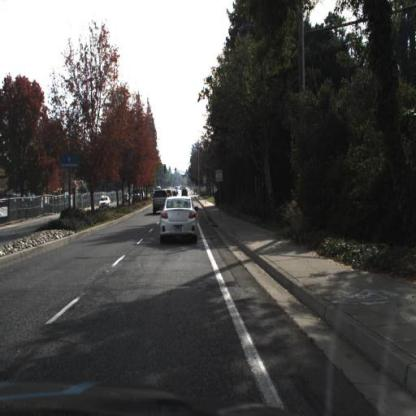car: (157, 192, 201, 246), (151, 189, 169, 214), (97, 194, 109, 210), (163, 186, 173, 202), (179, 186, 188, 200), (120, 192, 130, 204)
truck: (131, 186, 145, 202)
